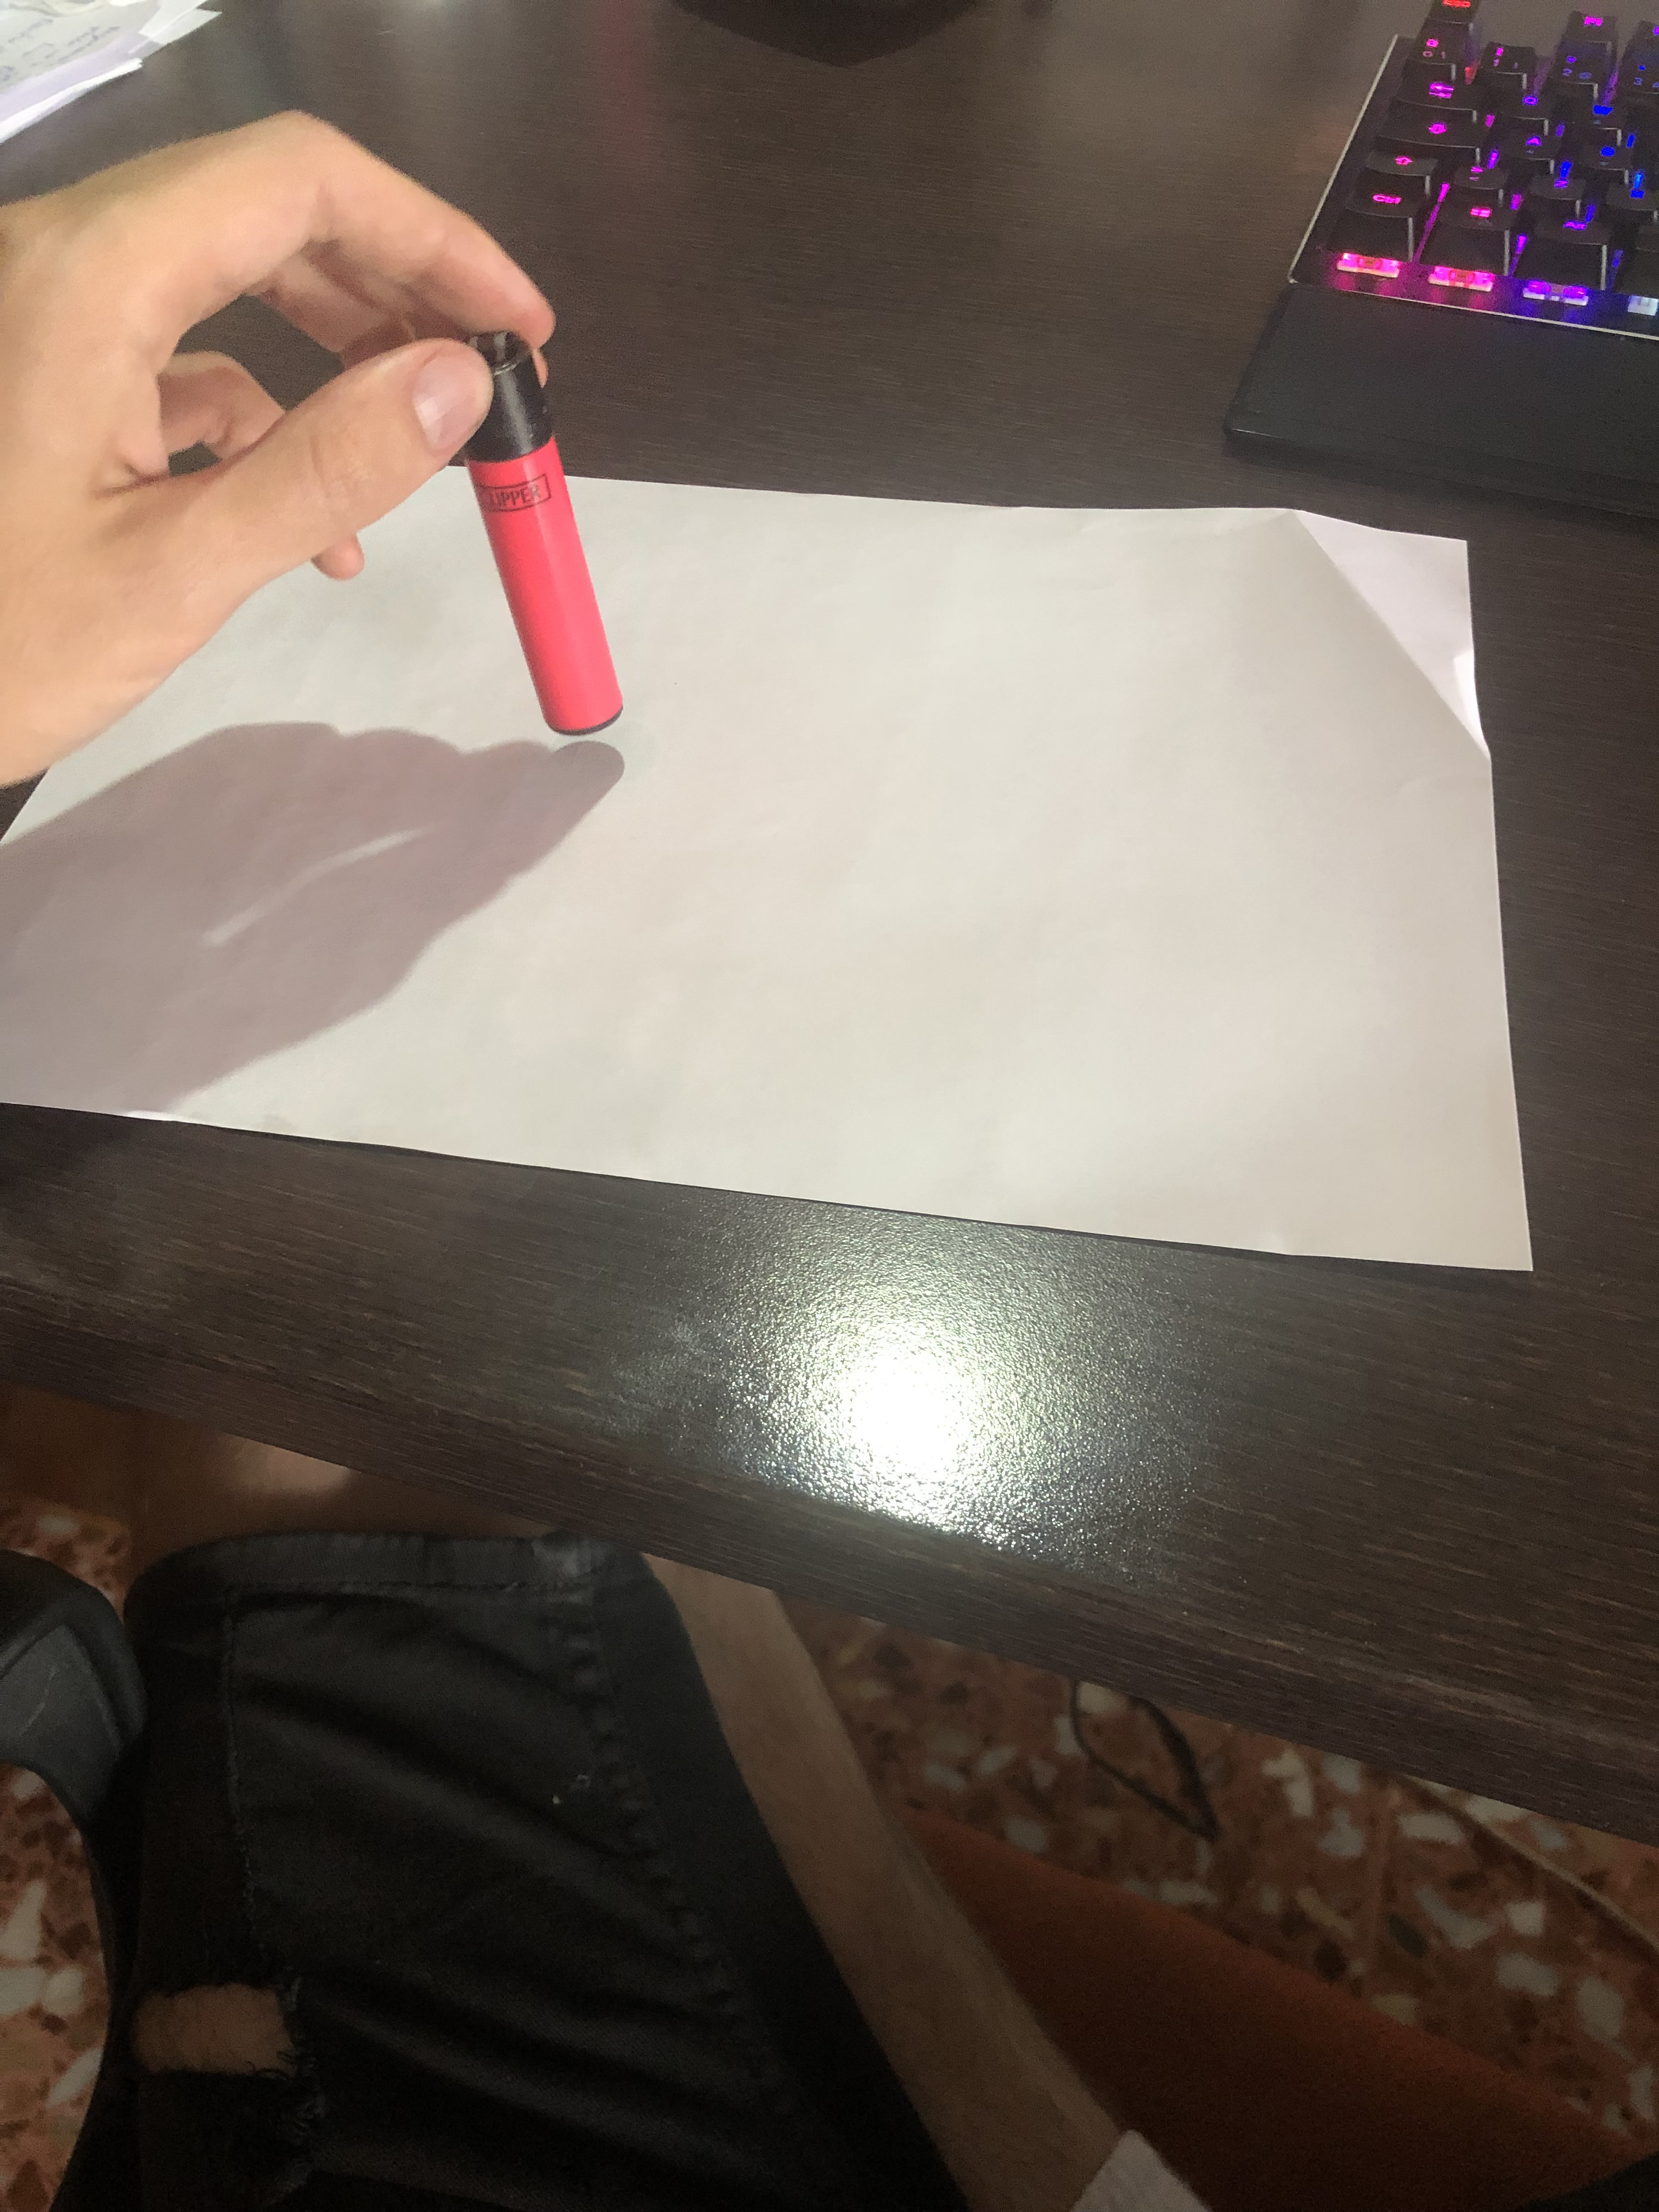Mechero: (444, 343, 662, 772)
